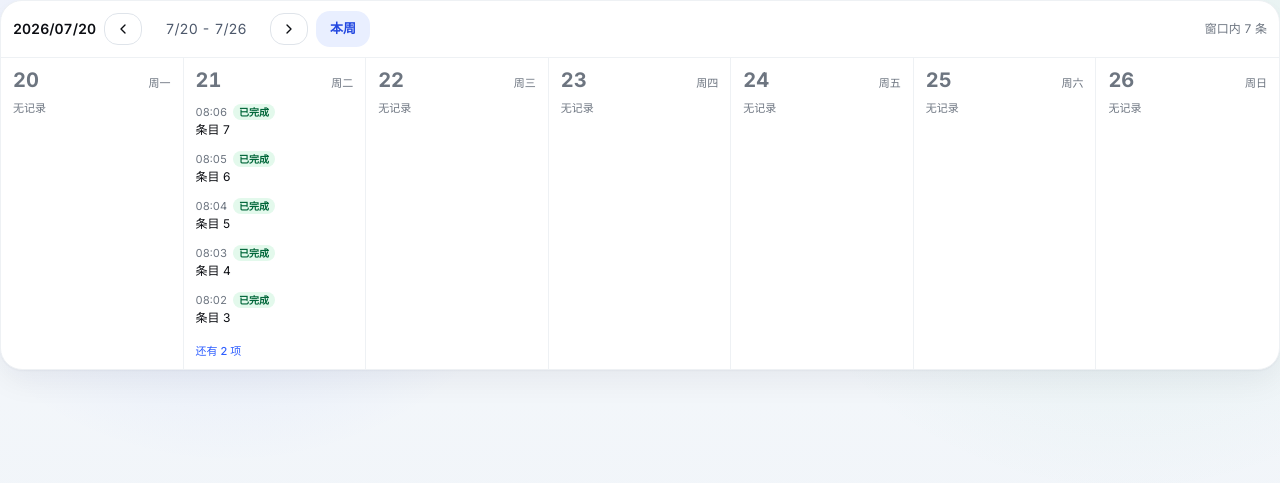
Test: EmployeeWorkCalendar › expands overflow items for a day
Step 1. Click the button "还有 2 项" → point(218, 351), box [196,342,241,359]
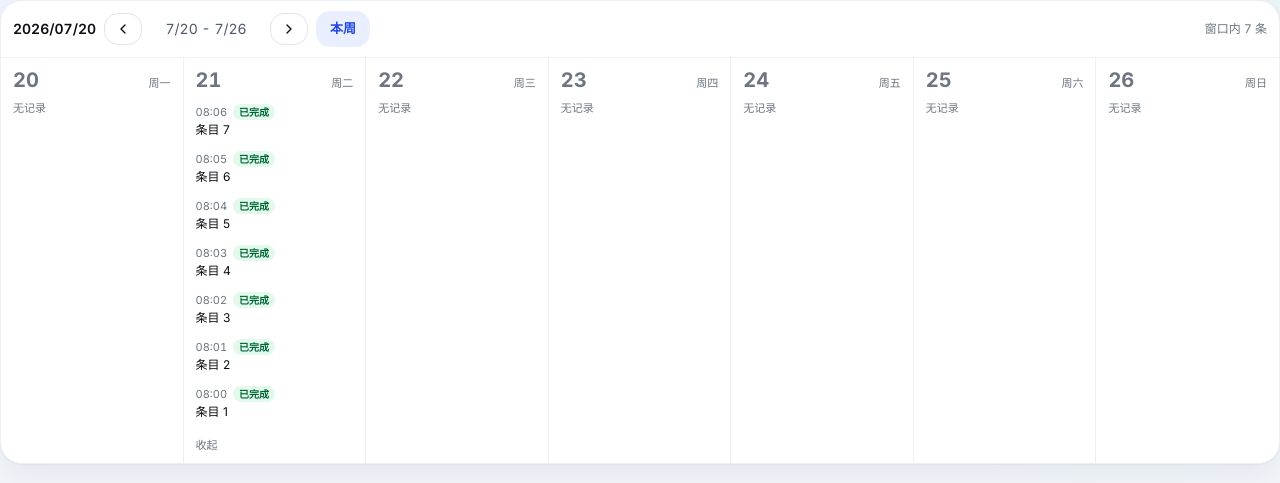
expect the text "条目 1" is shown: met, box [196,404,228,420]
